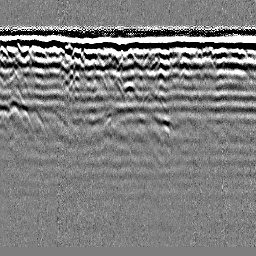cavity: (115, 80, 141, 99)
